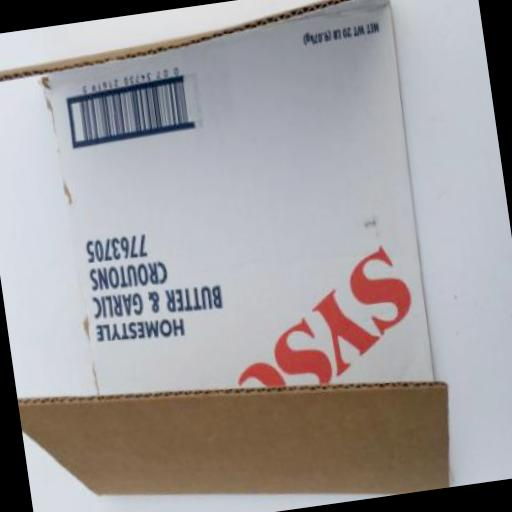cardboard: (0, 0, 482, 512), (36, 0, 441, 431), (17, 339, 460, 512), (0, 0, 418, 85)
